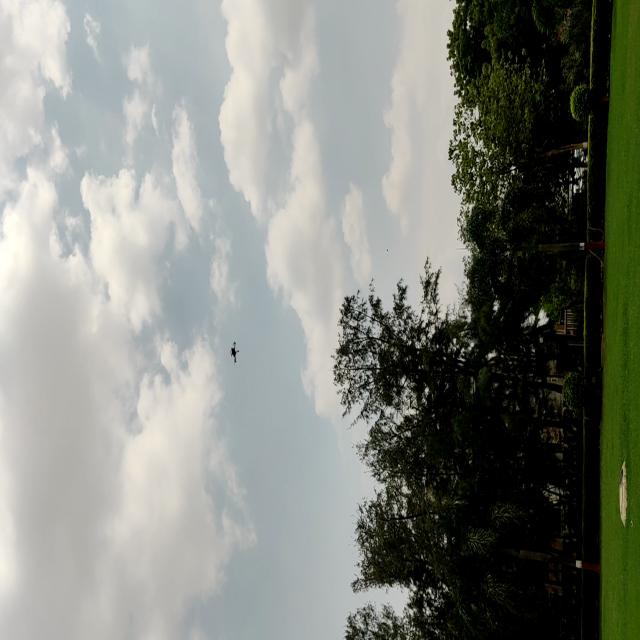drone: (226, 334, 242, 368)
